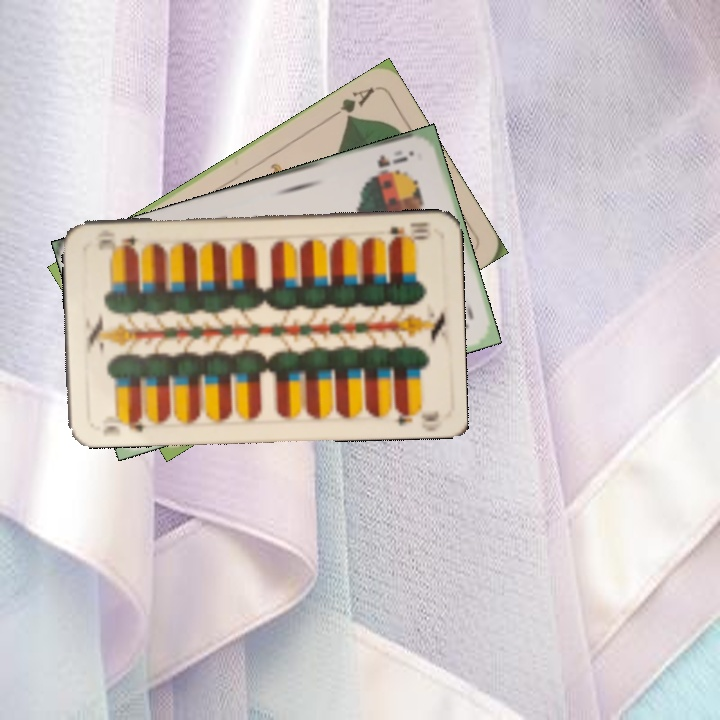E10: (99, 411, 149, 439), (386, 218, 434, 245)
GA: (325, 83, 377, 123)
SO: (362, 151, 411, 180)
